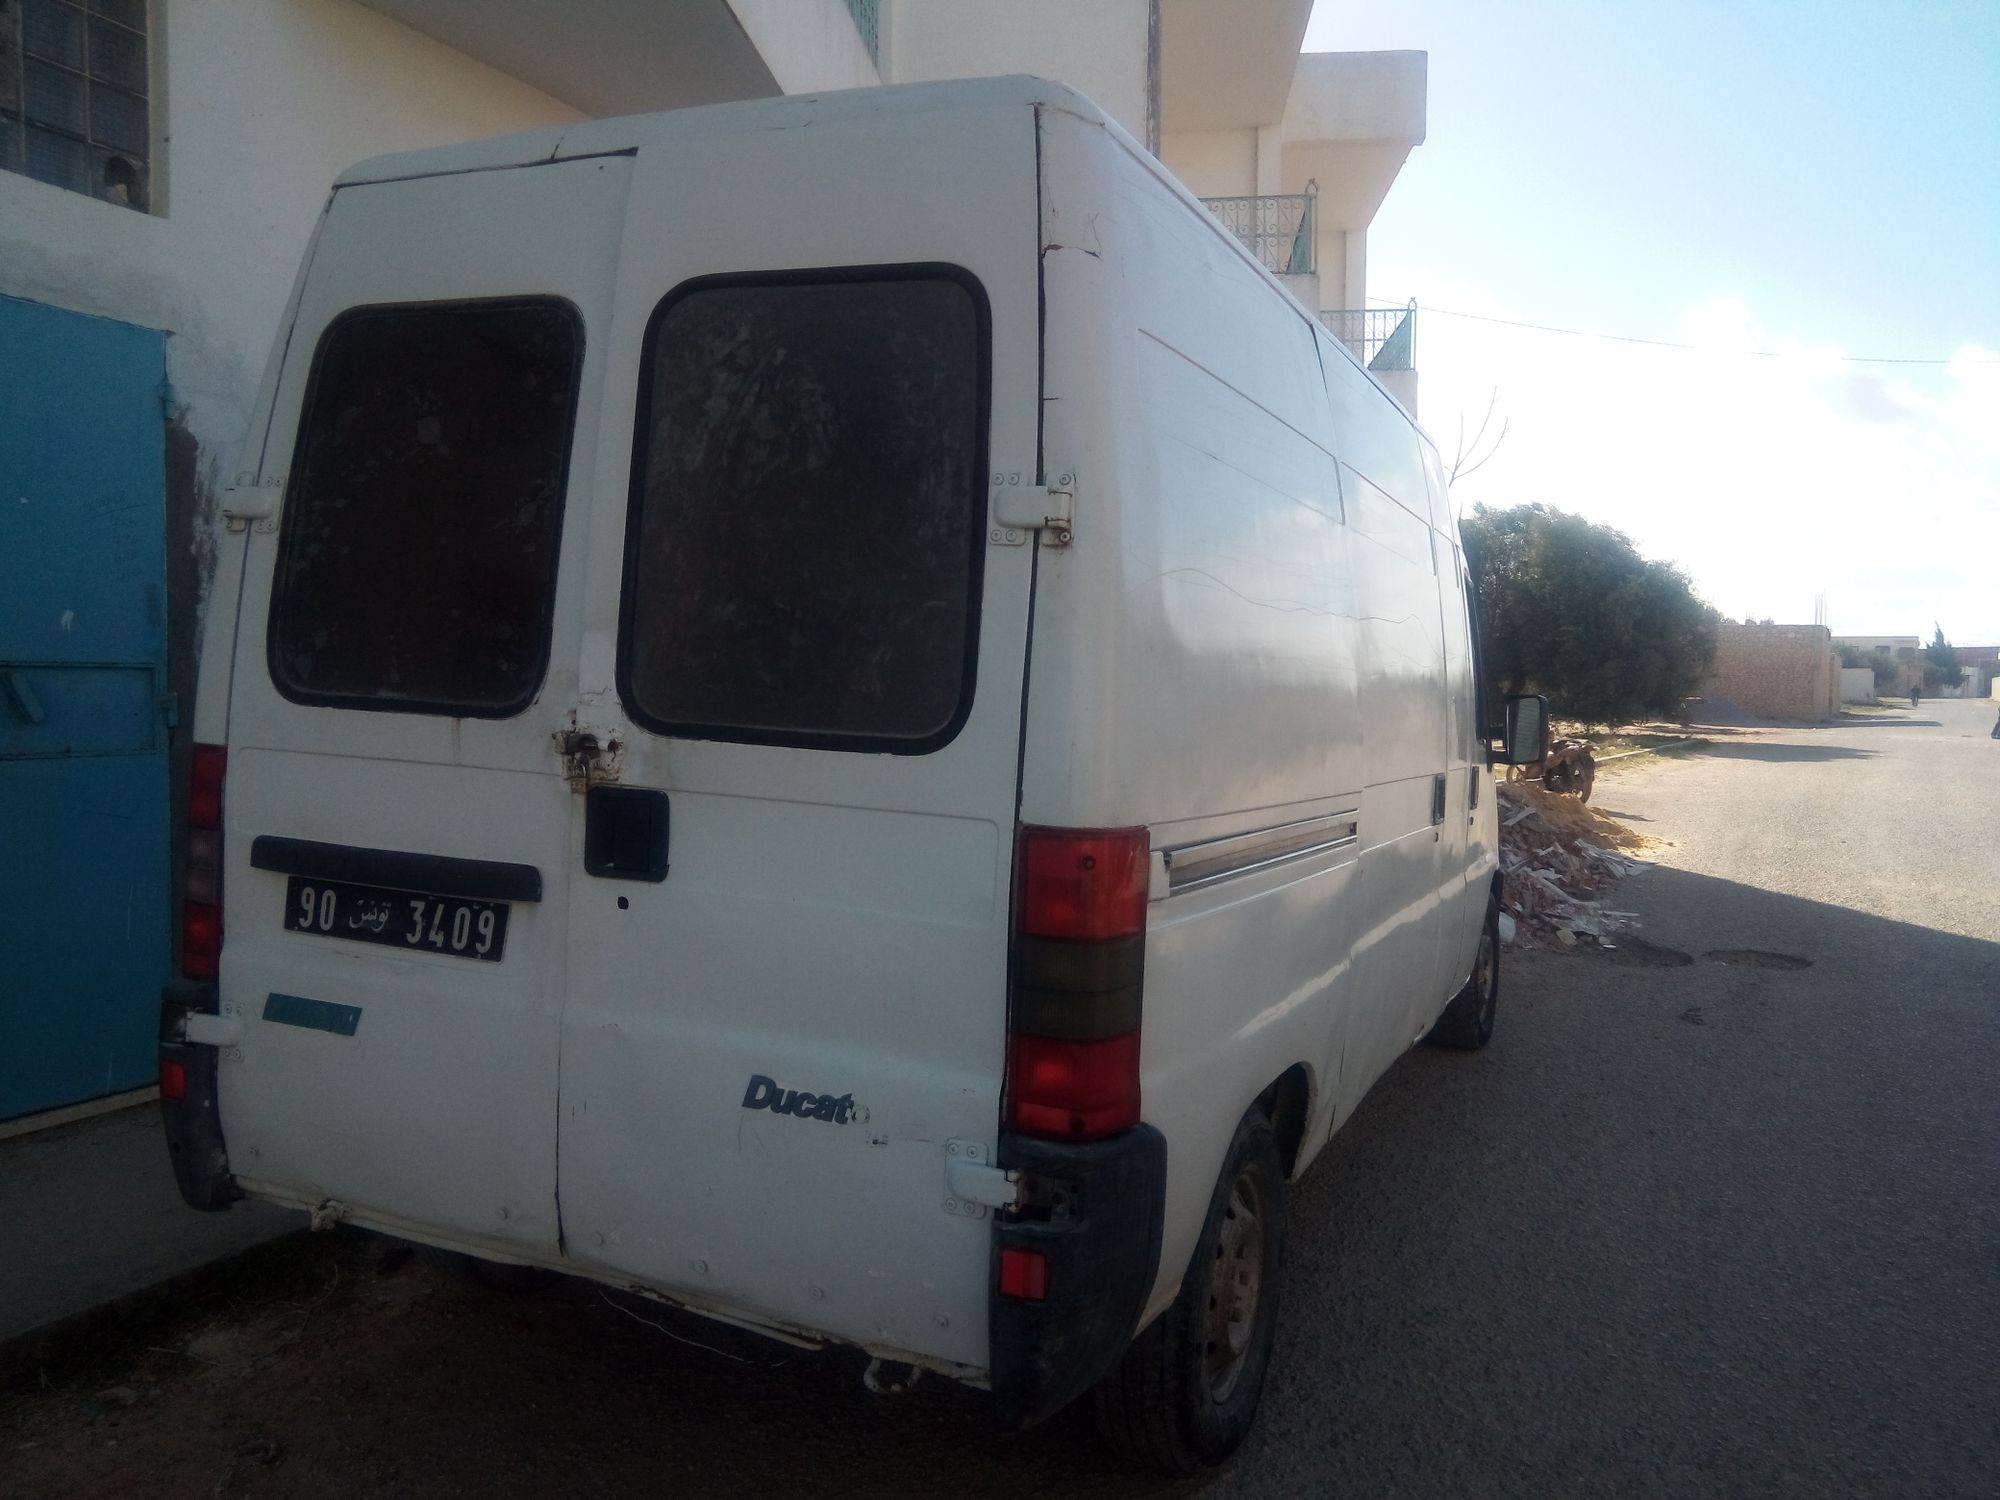LP: (283, 865, 514, 968)
